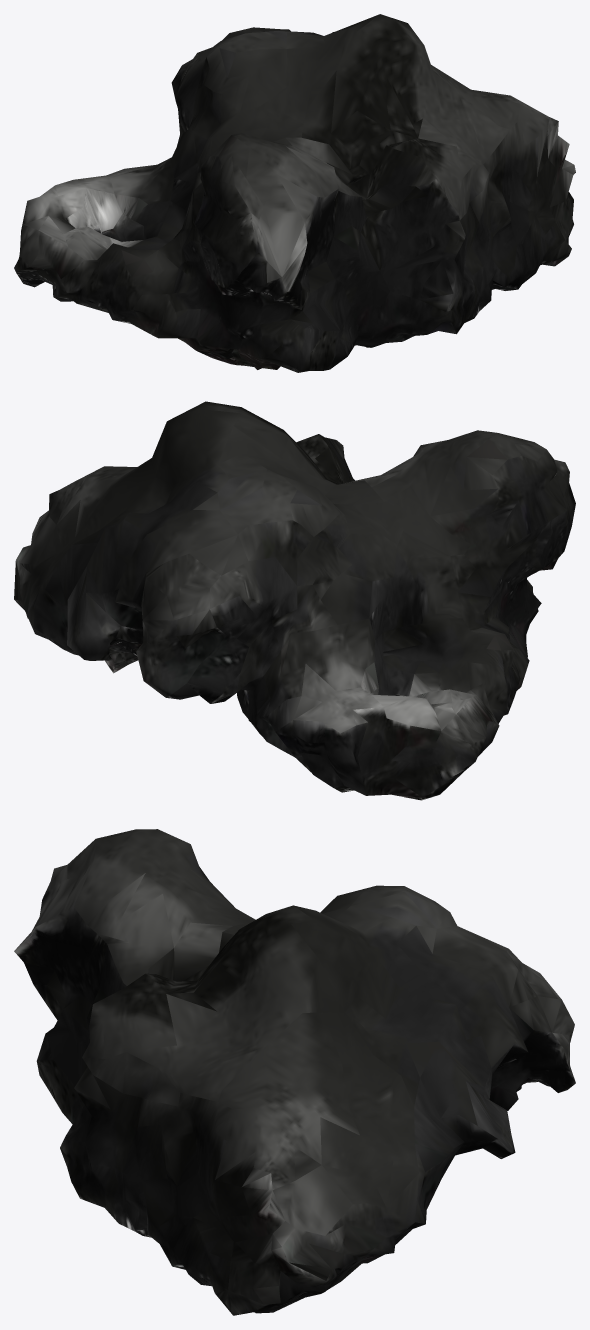
The model's file is lavaRock.glb.
The picture shows the model from 3 angles, top to bottom: view 1: azimuth 30°, elevation 25°; view 2: azimuth 150°, elevation 25°; view 3: azimuth 270°, elevation 25°; orthographic projection. The views are drawn at different scales.
Visible parts, largest first — view 1: lavaRock; view 2: lavaRock; view 3: lavaRock.
Boxes of the visible parts, x1=… form: lavaRock: x1=14, y1=14, x2=575, y2=372; lavaRock: x1=14, y1=401, x2=575, y2=800; lavaRock: x1=14, y1=829, x2=575, y2=1315.
Size of the model in its own units: 1.2 by 0.6197 by 0.9812.
1 material, 1 textured.
